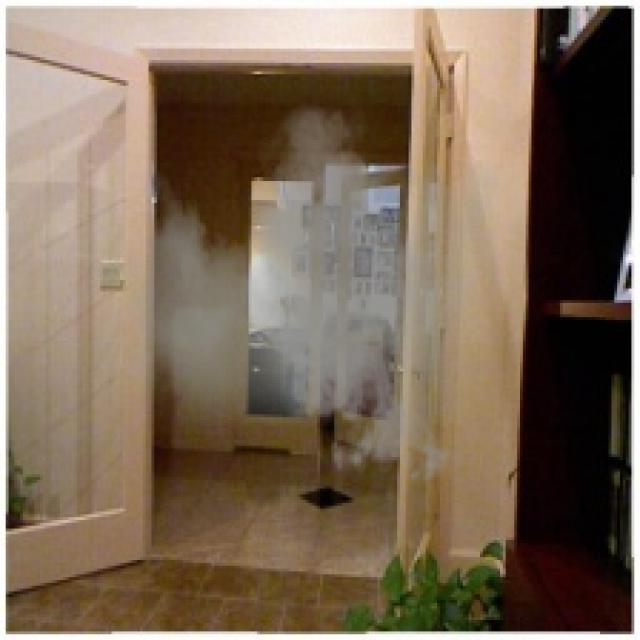smoke: (126, 89, 500, 497)
